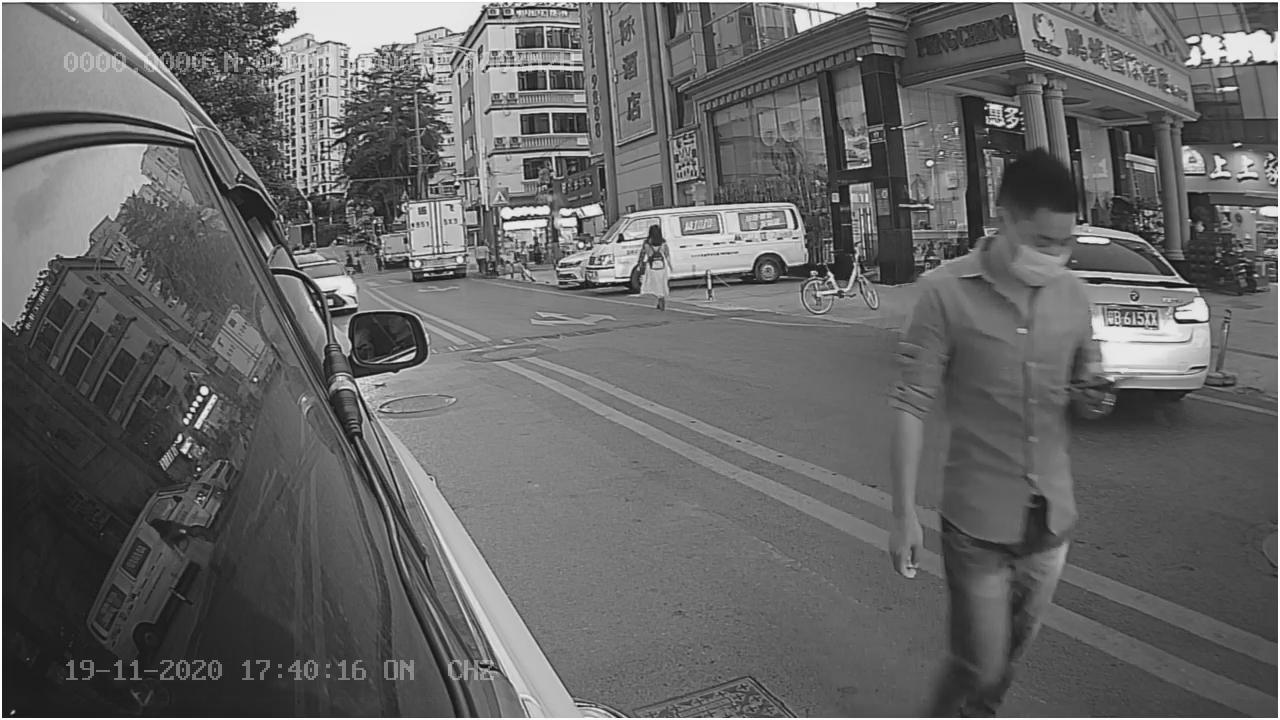person: (881, 152, 1120, 690)
